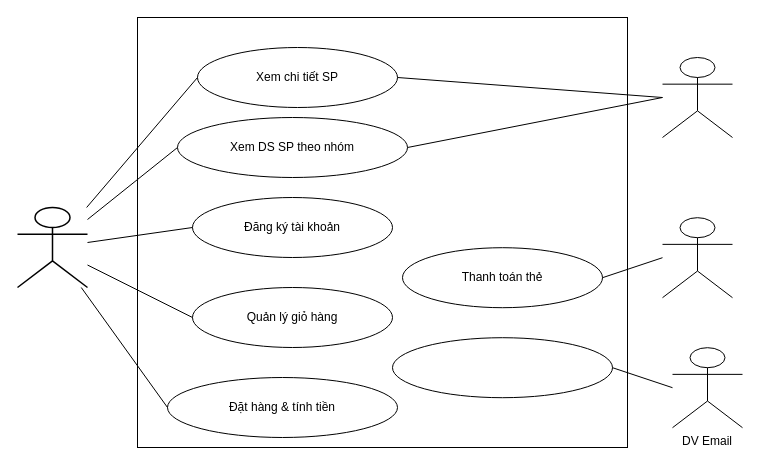
Image size: 761x466. Some labels were removed from this diagram. Here are the shapes that lost their labels. From the top down, the box of each, then its label:
(662, 56, 732, 138): HT Quản lý SP
(16, 206, 88, 288): Khách hàng
(662, 217, 732, 298): DV Thanh toán
(392, 337, 612, 398): Gửi email xác nhận
